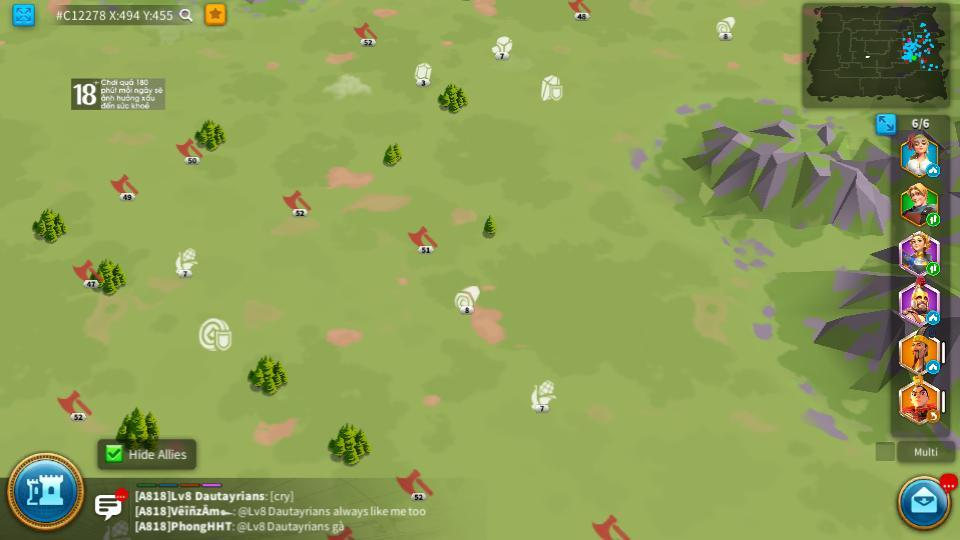gem-z-out: (414, 62, 432, 83)
march_idle: (926, 312, 940, 323), (927, 362, 940, 373), (927, 167, 940, 177)
march_marching: (925, 263, 938, 275), (927, 215, 940, 226)
march_returning: (926, 411, 940, 422)
